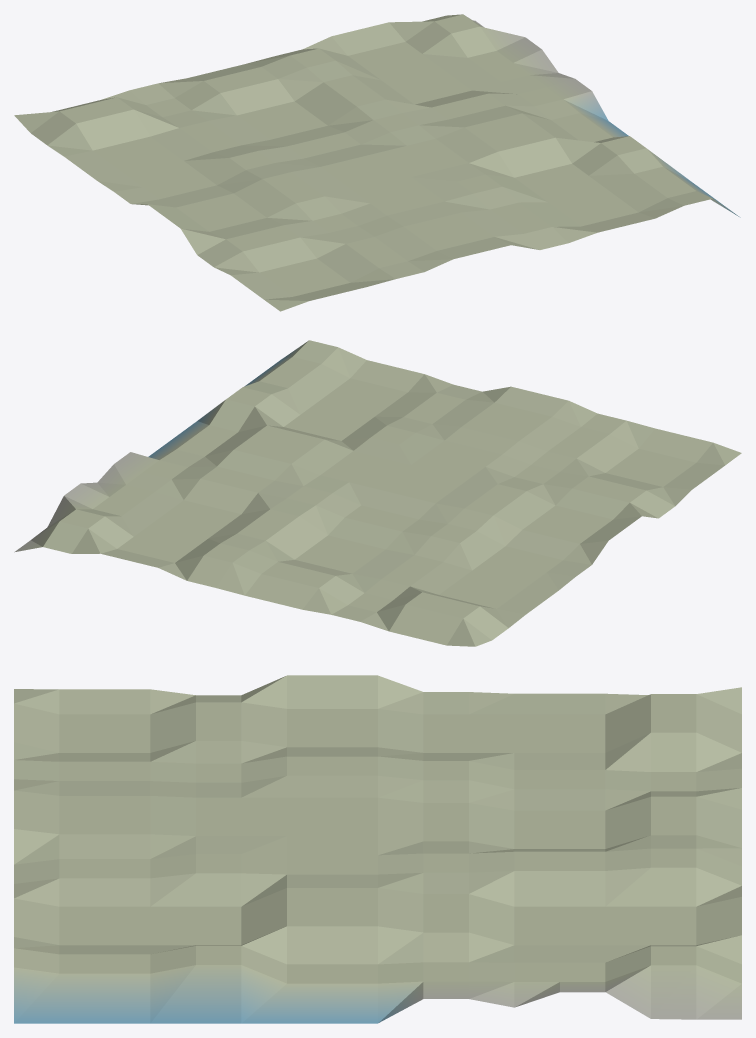
3 views of the same model, one above another, from view 1: azimuth 30°, elevation 25°; view 2: azimuth 150°, elevation 25°; view 3: azimuth 270°, elevation 25° (orthographic). The views are drawn at different scales.
Size of the model in its own units: 32 by 1.99 by 32.
